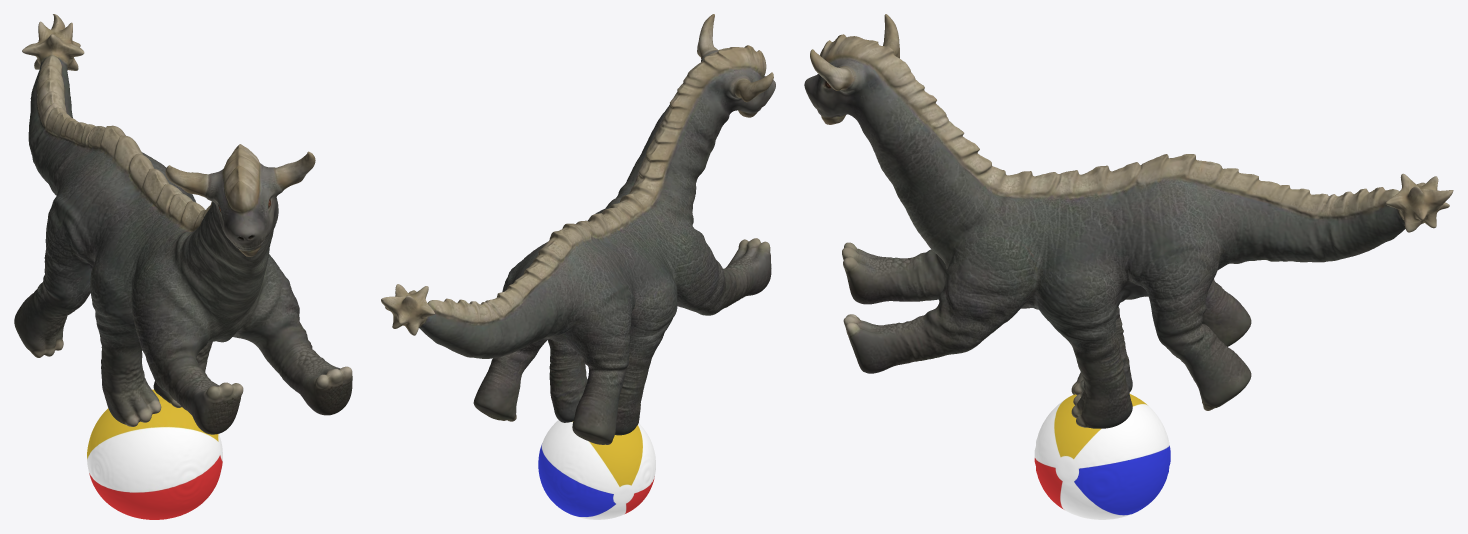
The model's file is circus-elephant-transformed.glb.
3 renders of one model, left to right at view 1: azimuth 30°, elevation 25°; view 2: azimuth 150°, elevation 25°; view 3: azimuth 270°, elevation 25°, orthographic. The views are drawn at different scales.
Visible parts, largest first — view 1: Object_6, Object_4; view 2: Object_6, Object_4; view 3: Object_6, Object_4.
Part boxes in pixels (left/top/right/bottom): Object_6: left=14, top=14, right=352, bottom=434; Object_4: left=87, top=389, right=222, bottom=519; Object_6: left=381, top=14, right=775, bottom=444; Object_4: left=538, top=420, right=655, bottom=519; Object_6: left=804, top=14, right=1453, bottom=428; Object_4: left=1034, top=394, right=1170, bottom=519.
Size of the model in its own units: 1.72 by 4.23 by 5.33.
Materials: 2 (2 with a texture image).
